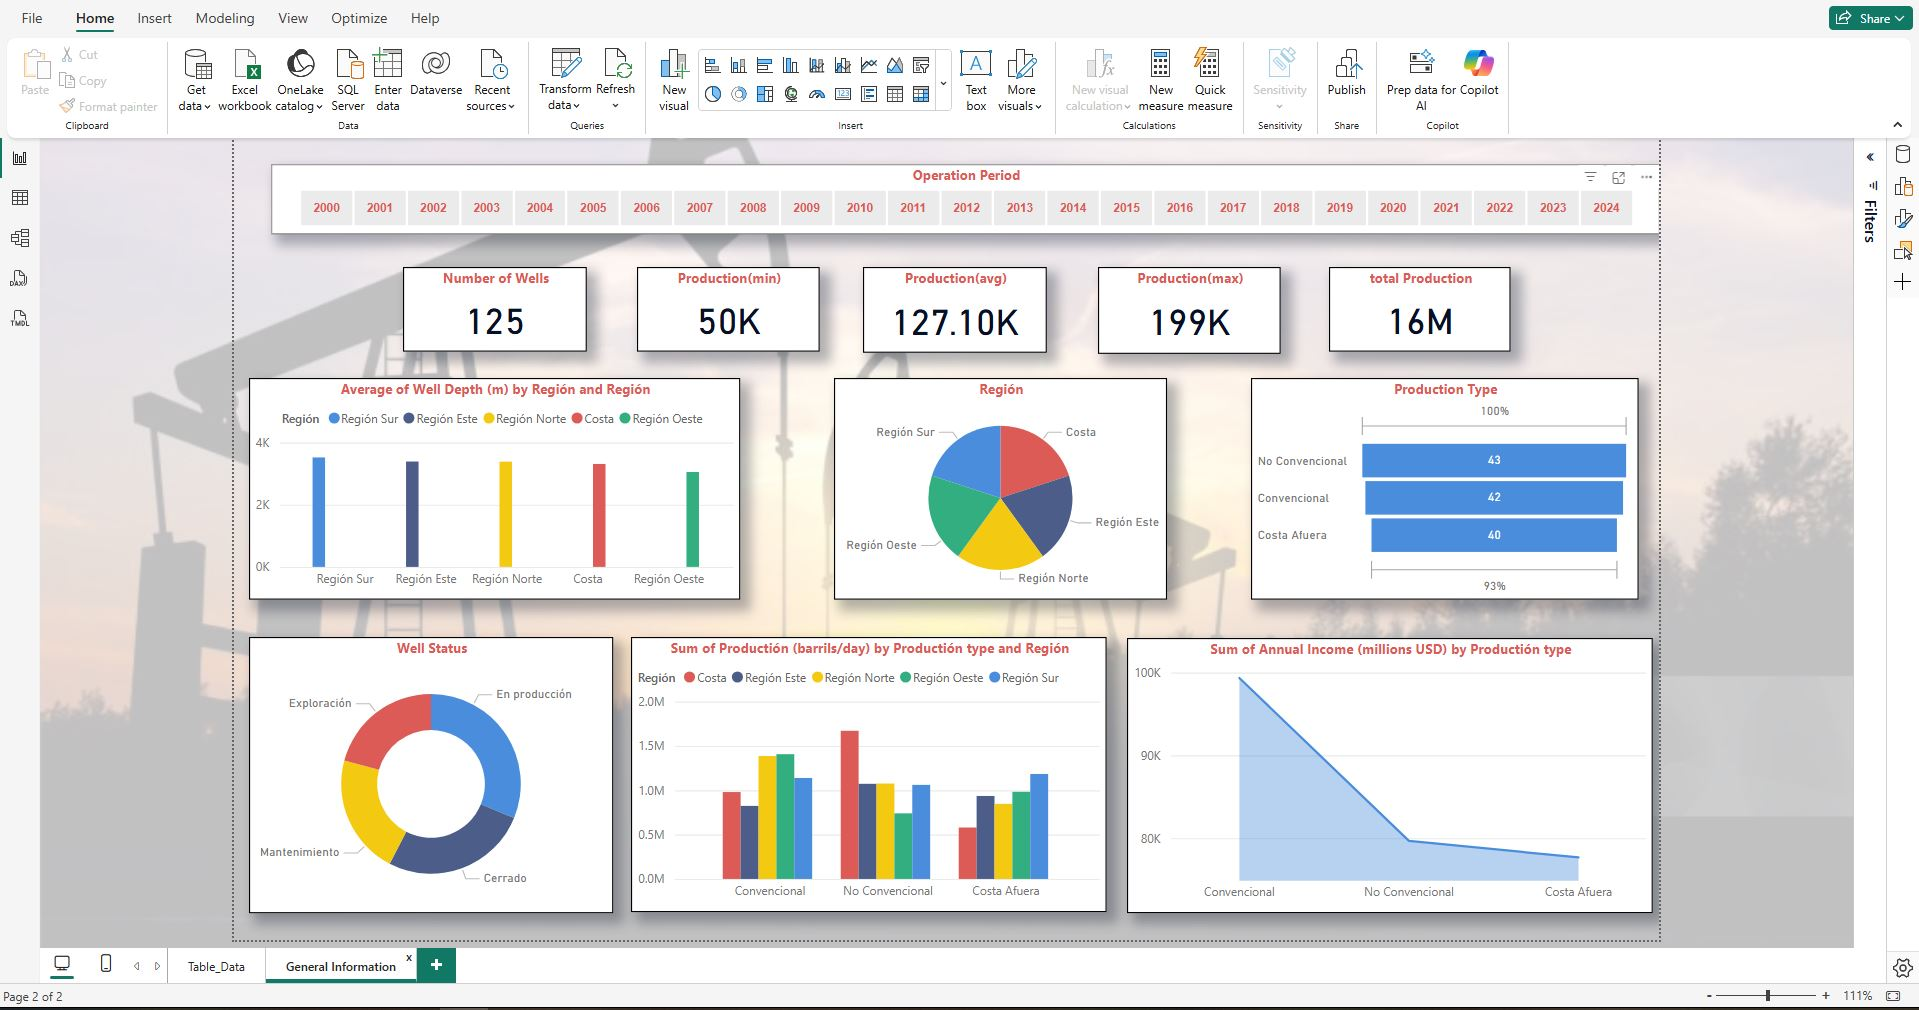

The dashboard page shown, as its layout file describes it:
{"tool":"powerbi","page":{"name":"General Information","canvas":[1280,720],"ordinal":1},"visuals":[{"type":"card","title":"Number of Wells","fields":{"Values":["Dax.Total_Data"]},"box":[151.7,115.8,165.2,76.3],"z":0},{"type":"slicer","title":"Operation Period","fields":{"Values":["dataset_ficticio_petroleo_gas_extendido.Año"]},"box":[33.2,23.3,1247,62.8],"z":1000},{"type":"pieChart","title":"Región ","fields":{"Category":["dataset_ficticio_petroleo_gas_extendido.Región"],"Y":["Count(dataset_ficticio_petroleo_gas_extendido.Región)"]},"box":[538.9,215.4,298.9,199.2],"z":2000},{"type":"card","title":"Production(max)","fields":{"Values":["Max(dataset_ficticio_petroleo_gas_extendido.Productión (barrils/day))"]},"box":[775.7,115.8,164.3,78.1],"z":3000},{"type":"card","title":"Production(min)","fields":{"Values":["Min(dataset_ficticio_petroleo_gas_extendido.Productión (barrils/day))"]},"box":[361.8,115.8,164.3,76.3],"z":4000},{"type":"card","title":"Production(avg)","fields":{"Values":["Avg(dataset_ficticio_petroleo_gas_extendido.Productión (barrils/day))"]},"box":[564.7,115.8,165.2,77.2],"z":5000},{"type":"card","title":"total Production","fields":{"Values":["Sum(dataset_ficticio_petroleo_gas_extendido.Productión (barrils/day))"]},"box":[983,115.8,163.4,76.3],"z":6000},{"type":"funnel","title":"Production Type","fields":{"Category":["dataset_ficticio_petroleo_gas_extendido.Productión type"],"Y":["CountNonNull(dataset_ficticio_petroleo_gas_extendido.Región)"]},"box":[912.9,215.4,347.8,199.2],"z":7000},{"type":"clusteredColumnChart","fields":{"Y":["Avg(dataset_ficticio_petroleo_gas_extendido.Well Depth (m))"],"Category":["dataset_ficticio_petroleo_gas_extendido.Región"],"Series":["dataset_ficticio_petroleo_gas_extendido.Región"]},"box":[13.6,215.4,441.1,199.2],"z":8000},{"type":"donutChart","title":"Well Status","fields":{"Category":["dataset_ficticio_petroleo_gas_extendido.Well Status"],"Y":["CountNonNull(dataset_ficticio_petroleo_gas_extendido.Well Status)"]},"box":[13.5,448,326.8,247.8],"z":9000},{"type":"areaChart","fields":{"Y":["Sum(dataset_ficticio_petroleo_gas_extendido.Annual Income (millions USD))"],"Category":["dataset_ficticio_petroleo_gas_extendido.Productión type"]},"box":[801.7,448.9,472.2,246.9],"z":10000},{"type":"clusteredColumnChart","fields":{"Category":["dataset_ficticio_petroleo_gas_extendido.Productión type"],"Y":["Sum(dataset_ficticio_petroleo_gas_extendido.Productión (barrils/day))"],"Series":["dataset_ficticio_petroleo_gas_extendido.Región"]},"box":[356.4,448,427.3,246.9],"z":11000}]}

Visuals, with their boxes on the page's 1280x720 design canvas (x1, y1, x2, y2). These are canvas units, not pixel positions in the 1919x1010 screenshot, which may show the page scaled, cropped or inside an application window:
"Number of Wells" card: [152,116,317,192]
"Operation Period" slicer: [33,23,1280,86]
"Región " pieChart: [539,215,838,415]
"Production(max)" card: [776,116,940,194]
"Production(min)" card: [362,116,526,192]
"Production(avg)" card: [565,116,730,193]
"total Production" card: [983,116,1146,192]
"Production Type" funnel: [913,215,1261,415]
clusteredColumnChart - Avg(dataset_ficticio_petroleo_gas_extendido.Well Depth (m)) x dataset_ficticio_petroleo_gas_extendido.Región: [14,215,455,415]
"Well Status" donutChart: [14,448,340,696]
areaChart - Sum(dataset_ficticio_petroleo_gas_extendido.Annual Income (millions USD)) x dataset_ficticio_petroleo_gas_extendido.Productión type: [802,449,1274,696]
clusteredColumnChart - dataset_ficticio_petroleo_gas_extendido.Productión type x Sum(dataset_ficticio_petroleo_gas_extendido.Productión (barrils/day)): [356,448,784,695]
